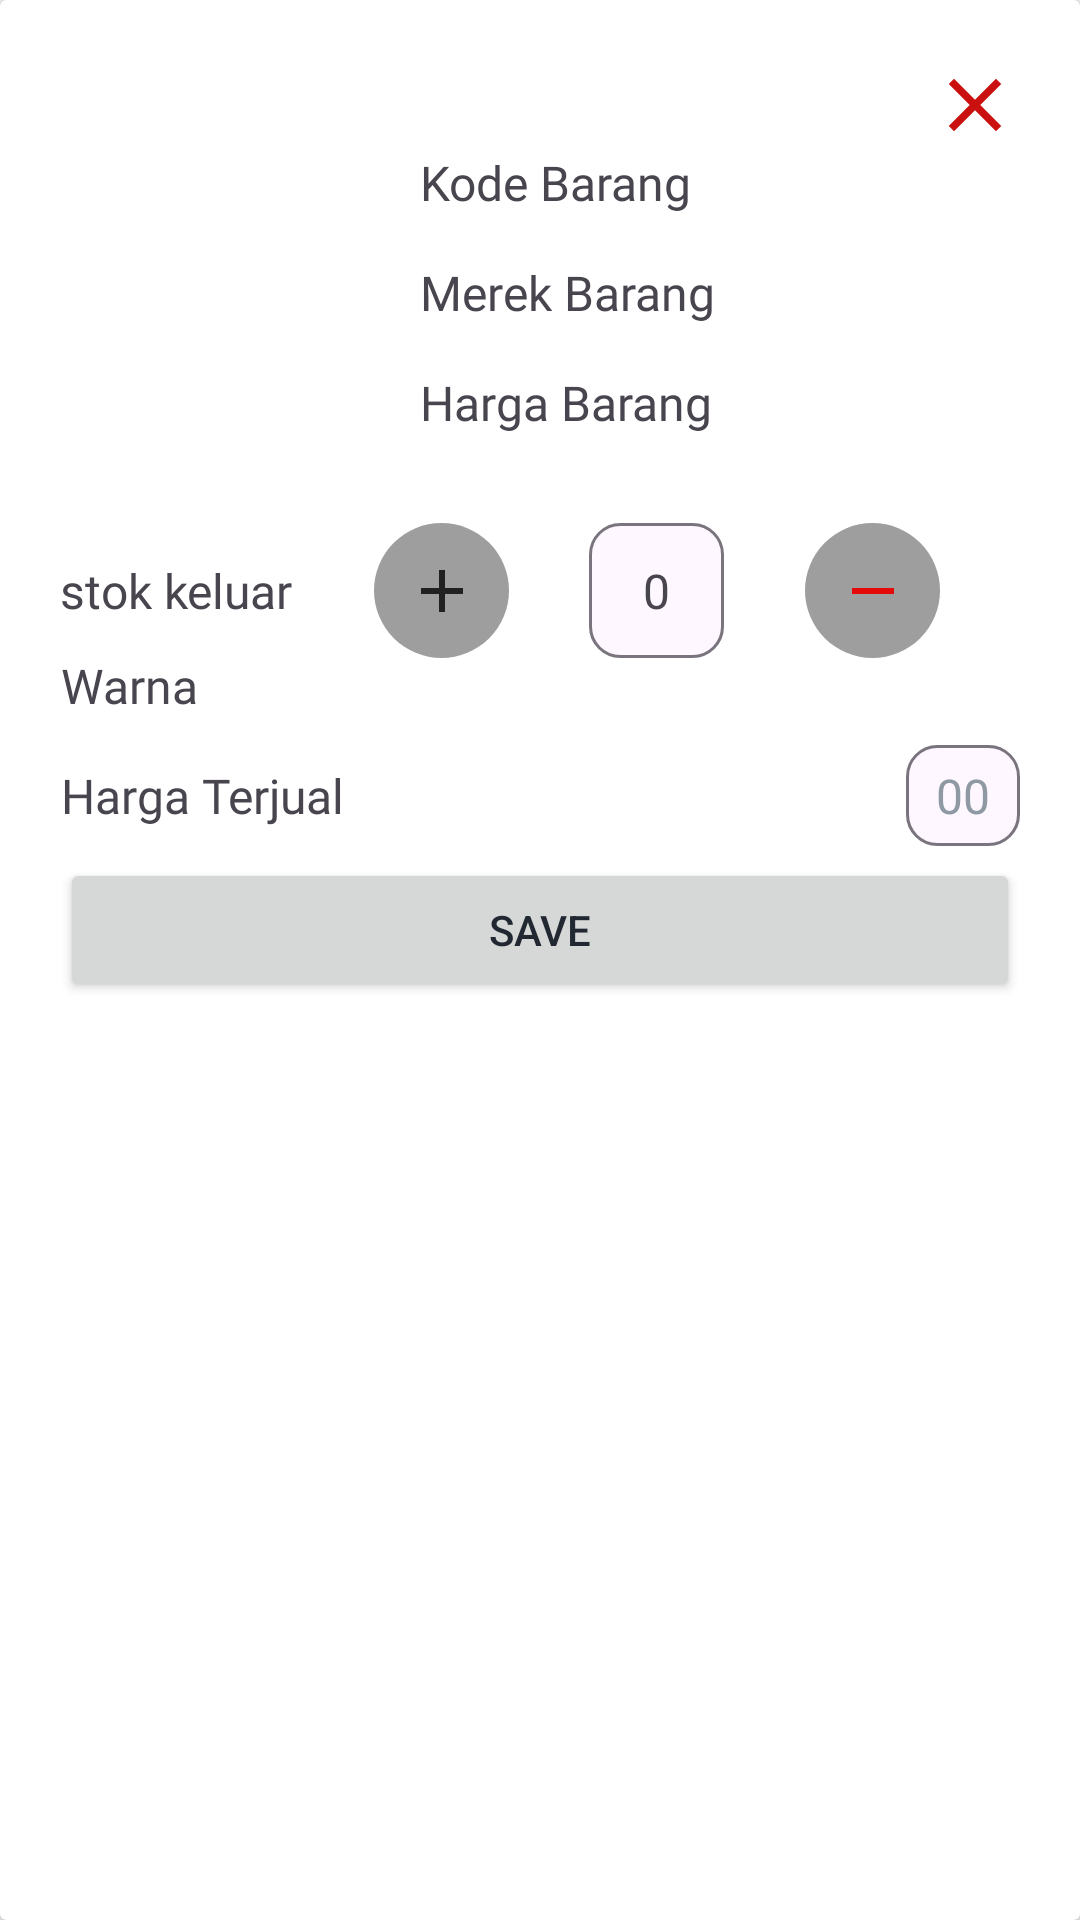

Screen size 1080 × 1920. Icon name, then its box in pixels as (x1, y1, x2, y2):
add: (374, 523, 509, 658)
close: (949, 79, 1001, 131)
remove: (805, 523, 940, 658)
